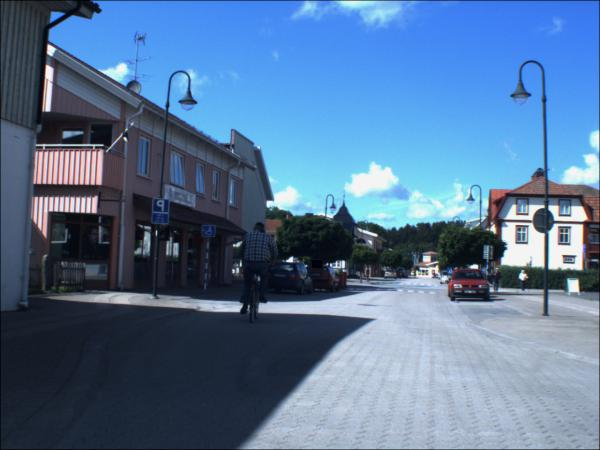PEDESTRIAN_CROSSING: (312, 261, 323, 270)
